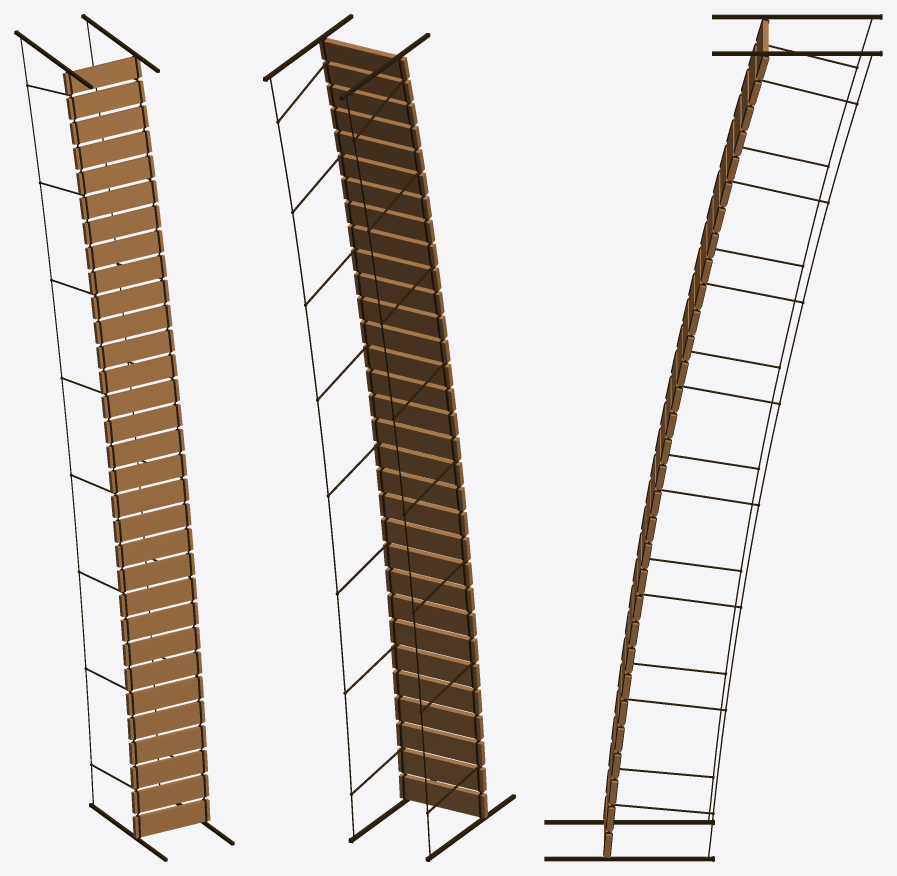
File: Wooden Rope Bridge Medium.fbx
The picture shows the model from 3 angles, left to right: view 1: azimuth 30°, elevation 25°; view 2: azimuth 150°, elevation 25°; view 3: azimuth 270°, elevation 25°; orthographic projection. The views are drawn at different scales.
Parts seen in each view (by area): view 1: Wooden Rope Bridge Medium; view 2: Wooden Rope Bridge Medium; view 3: Wooden Rope Bridge Medium.
Boxes of the visible parts, x1,y1,x2,y2 form: Wooden Rope Bridge Medium: (14, 14, 234, 861); Wooden Rope Bridge Medium: (263, 14, 515, 861); Wooden Rope Bridge Medium: (544, 14, 882, 861).
Size of the model in its own units: 200 by 1857 by 703.
